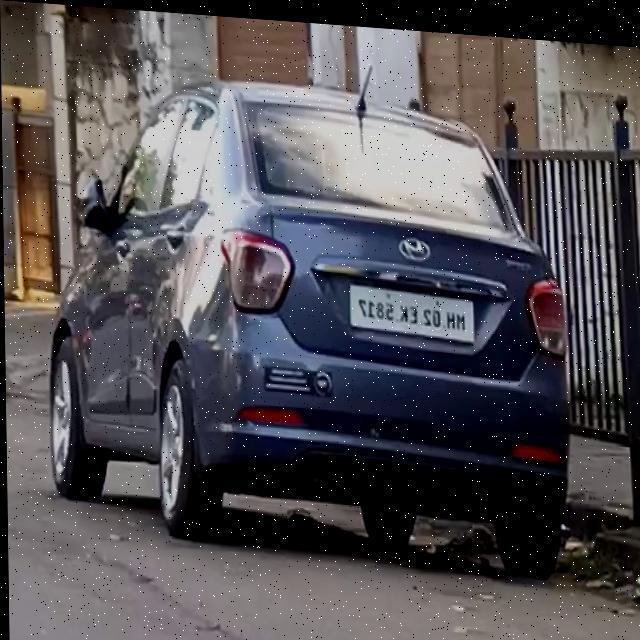plate: (348, 276, 476, 337)
